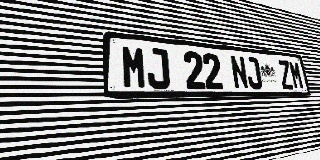2: (183, 51, 206, 89), (202, 52, 223, 89)
J: (146, 47, 170, 89), (244, 56, 263, 89)
M: (121, 45, 147, 89), (288, 61, 304, 89)
N: (229, 55, 249, 89)
Z: (277, 60, 294, 89)
